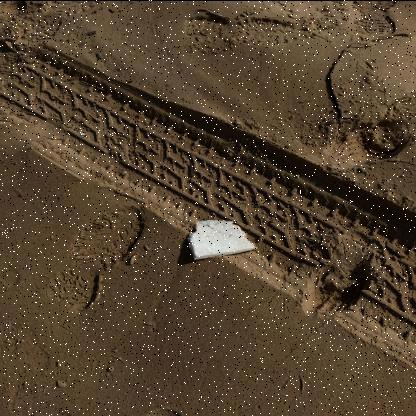foam: (188, 219, 256, 259)
